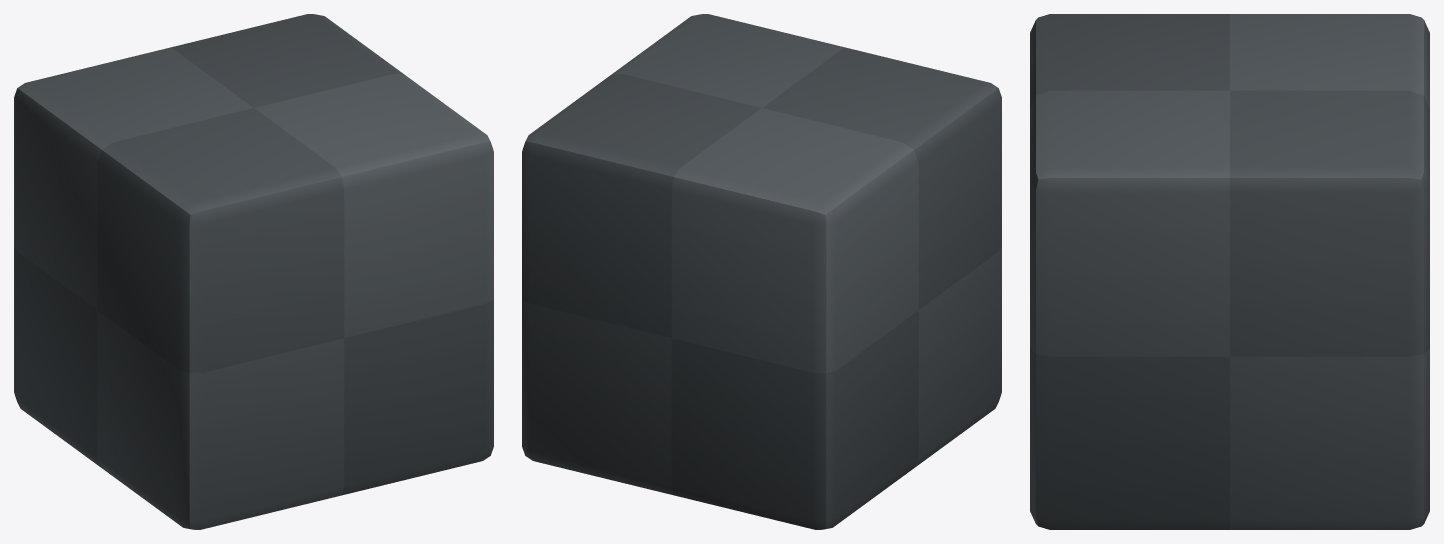
The model's file is prototype.glb.
3 views of the same model, side by side, from view 1: azimuth 30°, elevation 25°; view 2: azimuth 150°, elevation 25°; view 3: azimuth 270°, elevation 25° (orthographic). The views are drawn at different scales.
Visible parts, largest first — view 1: prototype; view 2: prototype; view 3: prototype.
Part boxes in pixels (left/top/right/bottom): prototype: left=14, top=14, right=493, bottom=529; prototype: left=522, top=14, right=1001, bottom=529; prototype: left=1030, top=14, right=1429, bottom=529.
Size of the model in its own units: 2 by 2 by 2.
Materials: 1 (1 with a texture image).
